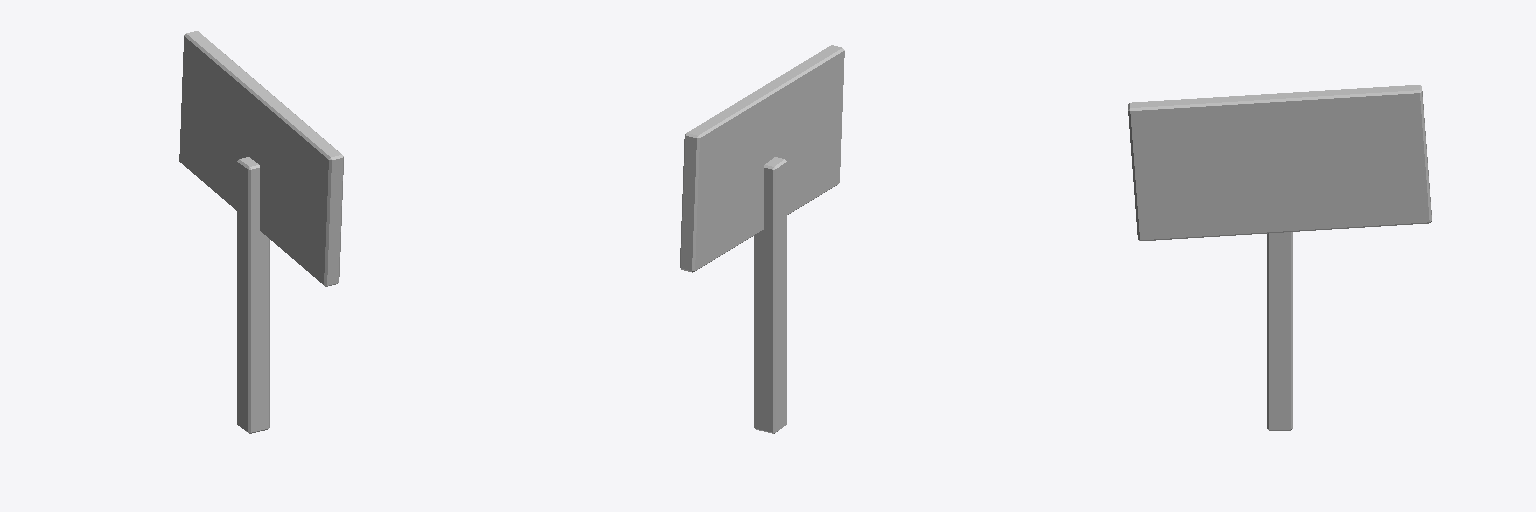
Rendered from POESign.obj.
3 renders of one model, left to right at view 1: azimuth 30°, elevation 25°; view 2: azimuth 150°, elevation 25°; view 3: azimuth 270°, elevation 25°, orthographic.
Parts seen in each view (by area): view 1: Cube.002; view 2: Cube.002; view 3: Cube.002.
Boxes of the visible parts, <box> form: Cube.002: <box>179,31,343,433</box>; Cube.002: <box>680,45,844,433</box>; Cube.002: <box>1128,85,1431,430</box>.
Bounding box in the file's own units: 0.2096 × 2.57 × 2.06.